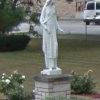Statue: (35, 1, 72, 73)
